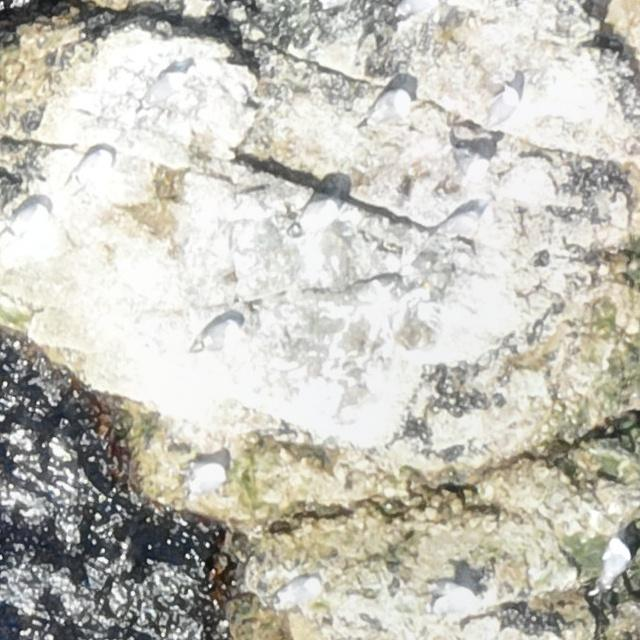umineko: (66, 148, 113, 192), (598, 537, 633, 596), (364, 88, 410, 126), (137, 73, 185, 109), (189, 317, 241, 349), (272, 576, 322, 609), (5, 205, 49, 238), (187, 464, 226, 497), (433, 586, 478, 614), (453, 146, 487, 183), (490, 83, 519, 122), (438, 213, 477, 237)
